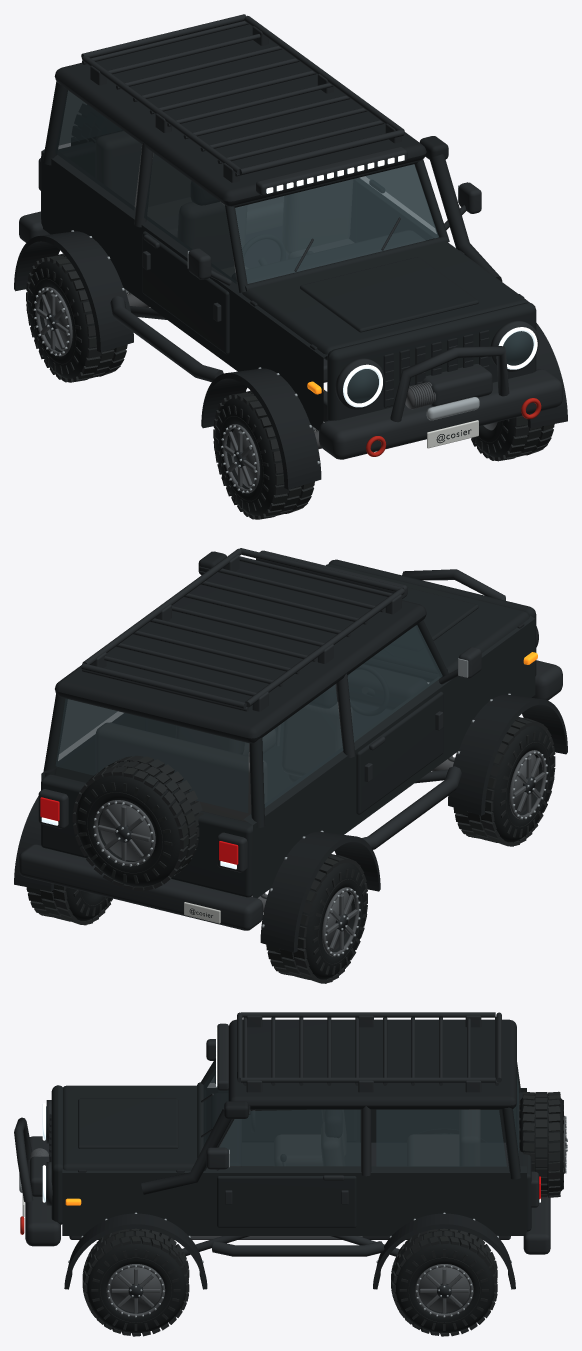
Rendered from black_jeep.glb.
3 renders of one model, top to bottom at view 1: azimuth 30°, elevation 25°; view 2: azimuth 150°, elevation 25°; view 3: azimuth 270°, elevation 25°, orthographic. The views are drawn at different scales.
Parts seen in each view (by area): view 1: BodyStatic, GlassPanels, InteriorAssembly, WheelFrontLGeometry, WheelRearLGeometry, WheelFrontRGeometry; view 2: BodyStatic, GlassPanels, InteriorAssembly, RearSpareGeometry, WheelFrontLGeometry, WheelRearLGeometry, WheelRearRGeometry; view 3: BodyStatic, GlassPanels, WheelRearRGeometry, WheelFrontRGeometry, InteriorAssembly, RearSpareGeometry.
Boxes of the visible parts, x1=… form: BodyStatic: x1=14, y1=14, x2=567, y2=489; GlassPanels: x1=54, y1=90, x2=438, y2=283; InteriorAssembly: x1=96, y1=131, x2=425, y2=283; WheelFrontLGeometry: x1=213, y1=390, x2=314, y2=519; WheelRearLGeometry: x1=26, y1=253, x2=127, y2=382; WheelFrontRGeometry: x1=471, y1=416, x2=554, y2=461; BodyStatic: x1=14, y1=548, x2=567, y2=952; GlassPanels: x1=55, y1=625, x2=442, y2=812; InteriorAssembly: x1=96, y1=664, x2=427, y2=822; RearSpareGeometry: x1=72, y1=755, x2=203, y2=890; WheelFrontLGeometry: x1=453, y1=717, x2=555, y2=846; WheelRearLGeometry: x1=266, y1=854, x2=367, y2=983; WheelRearRGeometry: x1=26, y1=884, x2=112, y2=925; BodyStatic: x1=14, y1=1012, x2=550, y2=1289; GlassPanels: x1=203, y1=1068, x2=518, y2=1166; WheelRearRGeometry: x1=391, y1=1228, x2=497, y2=1336; WheelFrontRGeometry: x1=82, y1=1228, x2=189, y2=1336; InteriorAssembly: x1=211, y1=1093, x2=480, y2=1166; RearSpareGeometry: x1=519, y1=1091, x2=567, y2=1197.
Bounding box in the file's own units: 2.51 × 2.33 × 4.96.
